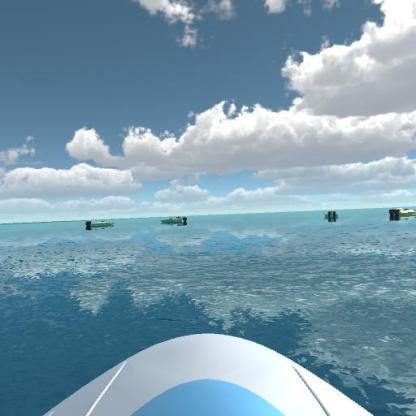usv0: (83, 216, 116, 234), (157, 212, 191, 228), (322, 205, 343, 225)
usv2: (386, 203, 415, 222)
